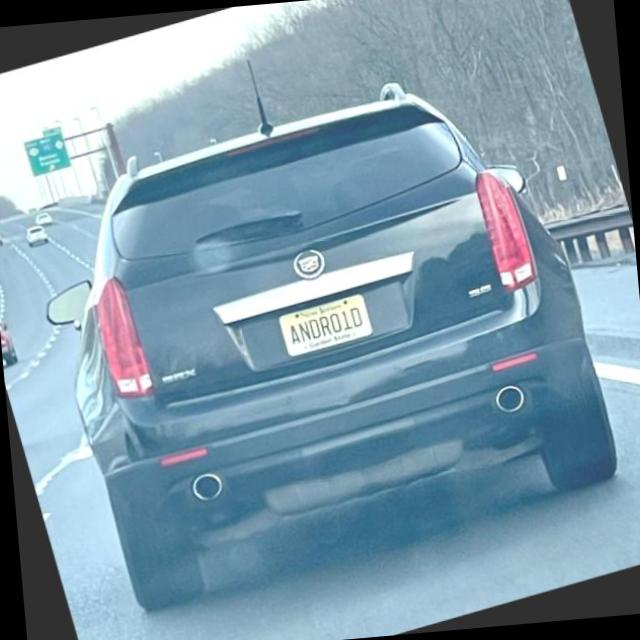LicensePlate: (277, 291, 373, 357)
